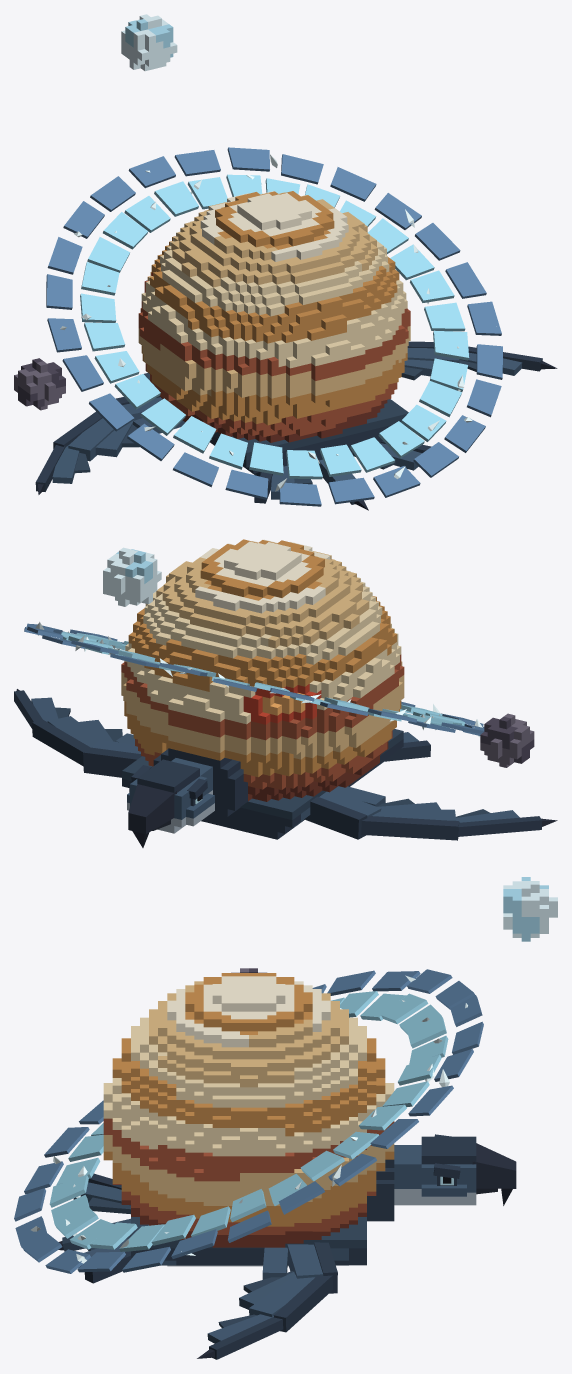
The model's file is Ringbearer.obj.
The picture shows the model from 3 angles, top to bottom: view 1: azimuth 30°, elevation 25°; view 2: azimuth 150°, elevation 25°; view 3: azimuth 270°, elevation 25°; orthographic projection. The views are drawn at different scales.
Visible parts, largest first — view 1: Shell, Ring, MoonA, WingL2, MoonB, WingL3, WingR2, WingR3, FlipBL; view 2: Shell, Head, Ring, WingL2, MoonA, WingL1, WingR2, MoonB, WingL3, WingR1, WingR3, FlipBL; view 3: Shell, Ring, Head, WingR2, MoonA, WingR1, WingR3, FlipBL, FlipBR.
Boxes of the visible parts, left/top/right/bottom form: Shell: left=138, top=191, right=410, bottom=476; Ring: left=46, top=147, right=502, bottom=506; MoonA: left=121, top=14, right=177, bottom=71; WingL2: left=53, top=411, right=139, bottom=461; MoonB: left=14, top=358, right=65, bottom=410; WingL3: left=35, top=445, right=90, bottom=494; WingR2: left=401, top=341, right=459, bottom=380; WingR3: left=459, top=346, right=557, bottom=375; FlipBL: left=254, top=465, right=312, bottom=503; Shell: left=121, top=539, right=404, bottom=839; Head: left=127, top=758, right=214, bottom=847; Ring: left=24, top=622, right=484, bottom=737; WingL2: left=361, top=798, right=459, bottom=840; MoonA: left=103, top=547, right=161, bottom=606; WingL1: left=304, top=786, right=385, bottom=839; WingR2: left=32, top=716, right=122, bottom=766; MoonB: left=480, top=713, right=534, bottom=767; WingL3: left=456, top=809, right=557, bottom=836; WingR1: left=83, top=733, right=141, bottom=777; WingR3: left=14, top=689, right=70, bottom=728; FlipBL: left=385, top=732, right=430, bottom=761; Shell: left=103, top=973, right=394, bottom=1266; Ring: left=14, top=969, right=483, bottom=1273; Head: left=394, top=1134, right=516, bottom=1205; WingR2: left=239, top=1271, right=332, bottom=1332; MoonA: left=503, top=877, right=557, bottom=941; WingR1: left=262, top=1242, right=337, bottom=1293; WingR3: left=197, top=1314, right=283, bottom=1359; FlipBL: left=73, top=1173, right=130, bottom=1214; FlipBR: left=79, top=1236, right=130, bottom=1283.
Size of the model in its own units: 43.82 by 26.72 by 35.92.
1 material, 1 textured.
